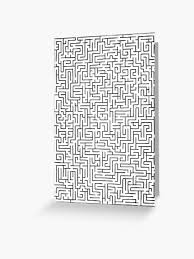maze: (52, 36, 159, 206)
